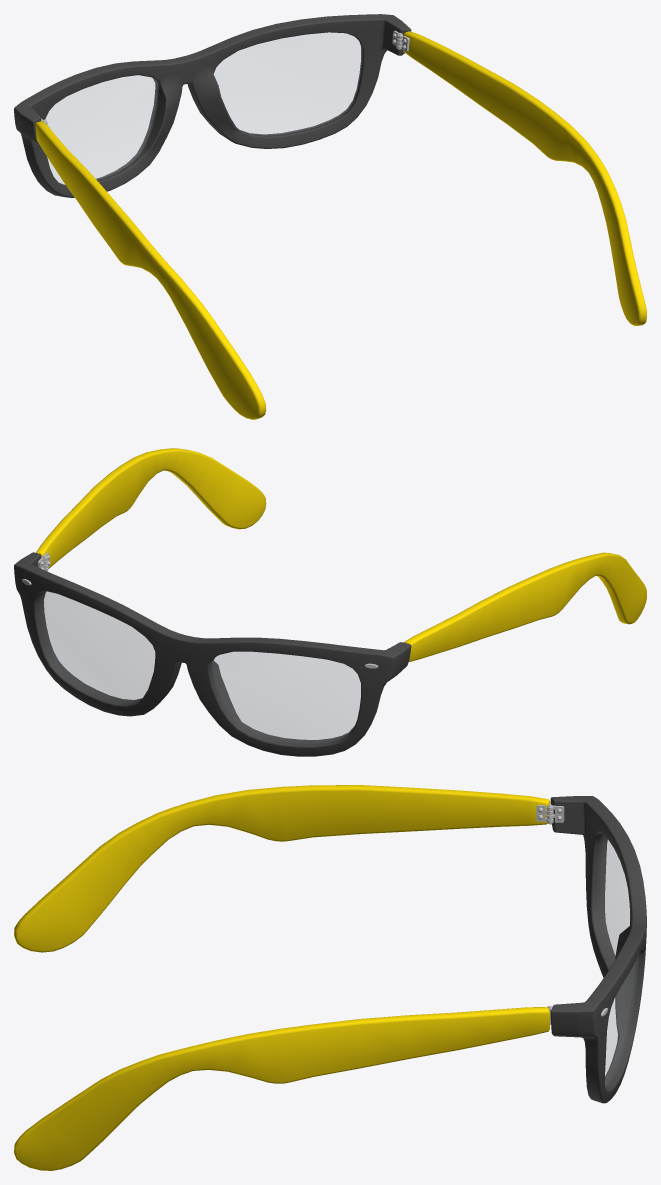
3 renders of one model, top to bottom at view 1: azimuth 30°, elevation 25°; view 2: azimuth 150°, elevation 25°; view 3: azimuth 270°, elevation 25°, orthographic. The views are drawn at different scales.
Parts seen in each view (by area): view 1: Glasses; view 2: Glasses, glass; view 3: Glasses, glass.
Part boxes in pixels (x1,y1,x2,y2): Glasses: (14,14,646,419); Glasses: (14,448,646,756); glass: (39,592,360,743); Glasses: (14,785,646,1170); glass: (605,956,638,1086).
Bounding box in the file's own units: 15.54 × 4.69 × 16.63.
